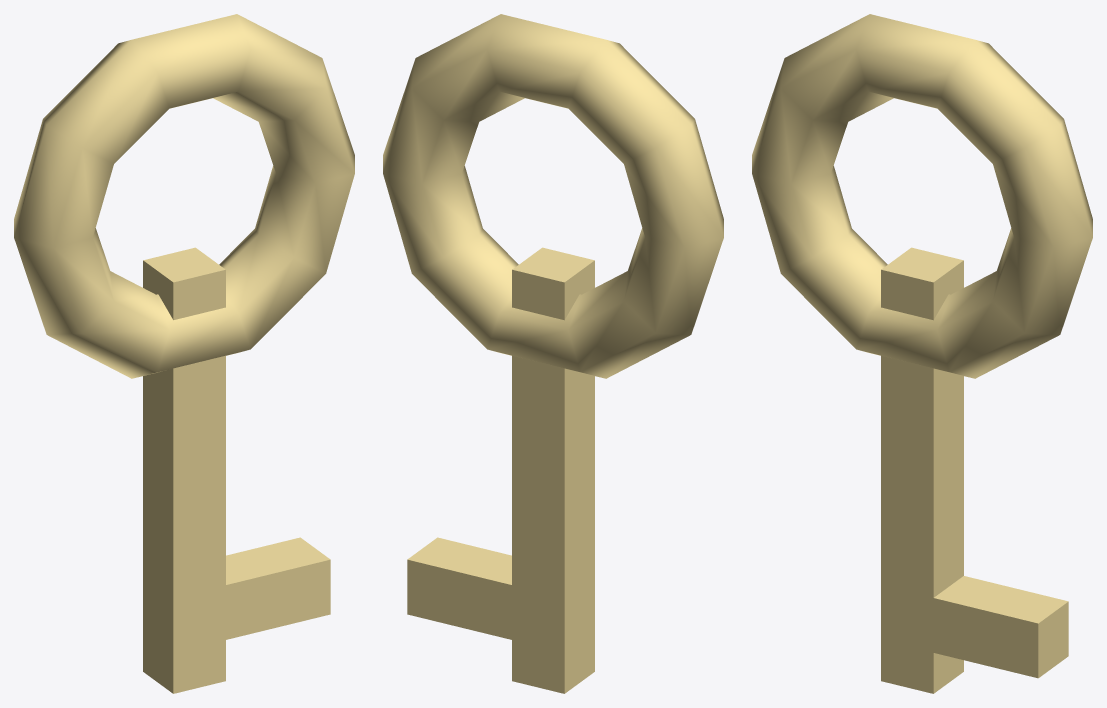
The model's file is key.glb.
3 views of the same model, side by side, from view 1: azimuth 30°, elevation 25°; view 2: azimuth 150°, elevation 25°; view 3: azimuth 330°, elevation 25° (orthographic).
Parts seen in each view (by area): view 1: key; view 2: key; view 3: key.
Part boxes in pixels (x1,y1,x2,y2): key: [14, 14, 354, 693]; key: [383, 14, 723, 693]; key: [752, 14, 1092, 693].
Size of the model in its own units: 0.26 by 0.4736 by 0.052.
